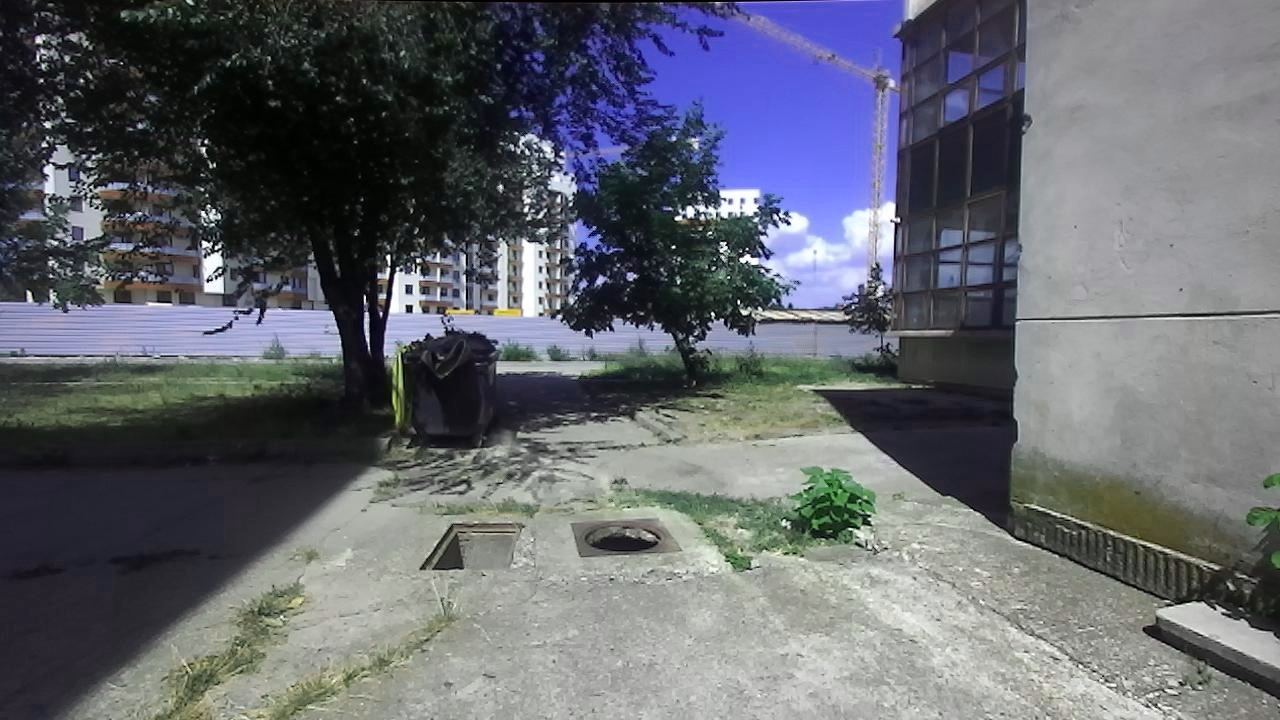drain: (414, 519, 528, 577), (582, 518, 670, 554)
